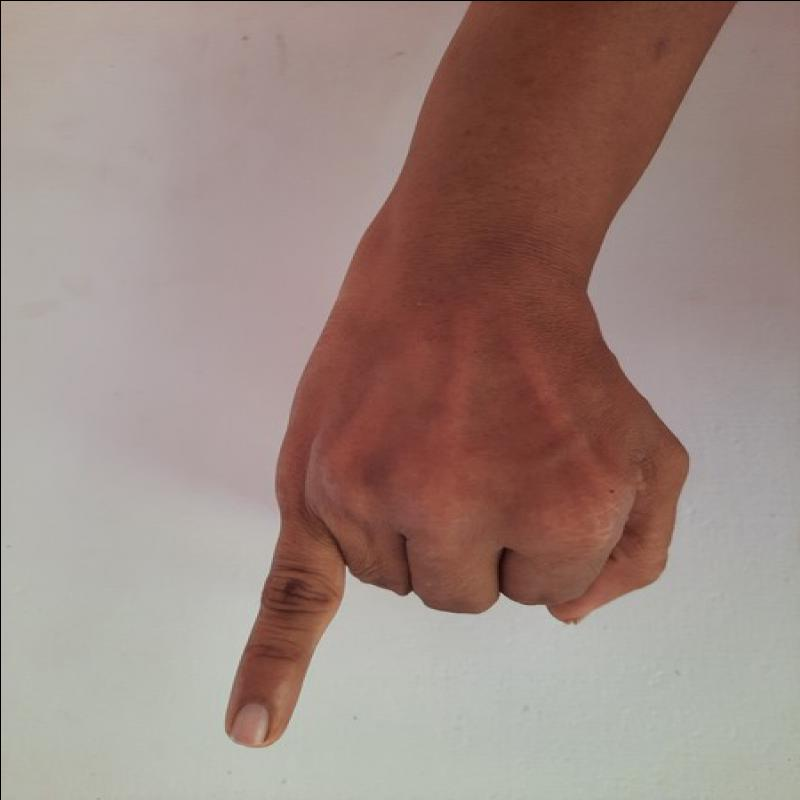Kartharee Mukham: (201, 279, 712, 758)
